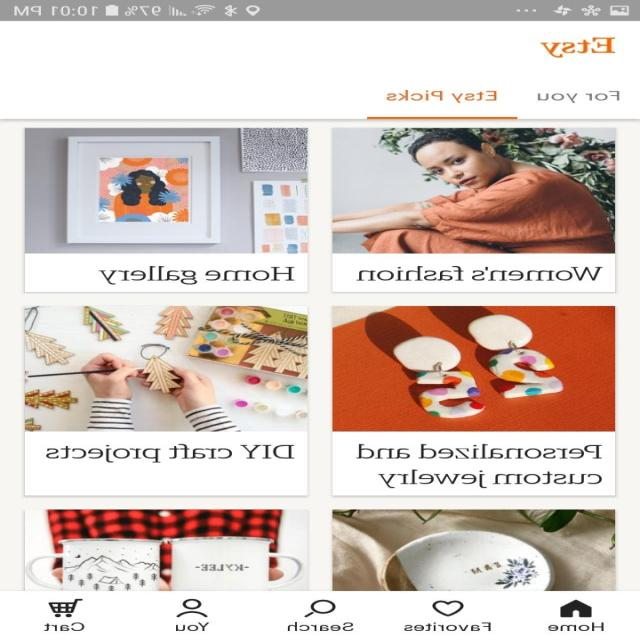Icon: (48, 598, 84, 617), (304, 598, 337, 617), (177, 598, 209, 617), (560, 599, 593, 617), (432, 599, 464, 616)
Image: (332, 306, 616, 431), (24, 128, 308, 253), (332, 128, 616, 253), (25, 306, 308, 431), (332, 509, 616, 590), (25, 509, 308, 590)
Text: (356, 443, 604, 488), (46, 443, 295, 462), (98, 265, 296, 284), (356, 266, 602, 281), (540, 37, 617, 58), (387, 89, 498, 103), (538, 90, 620, 103), (404, 622, 492, 631), (288, 621, 355, 631), (548, 622, 604, 631), (44, 621, 86, 631), (176, 621, 211, 631)
